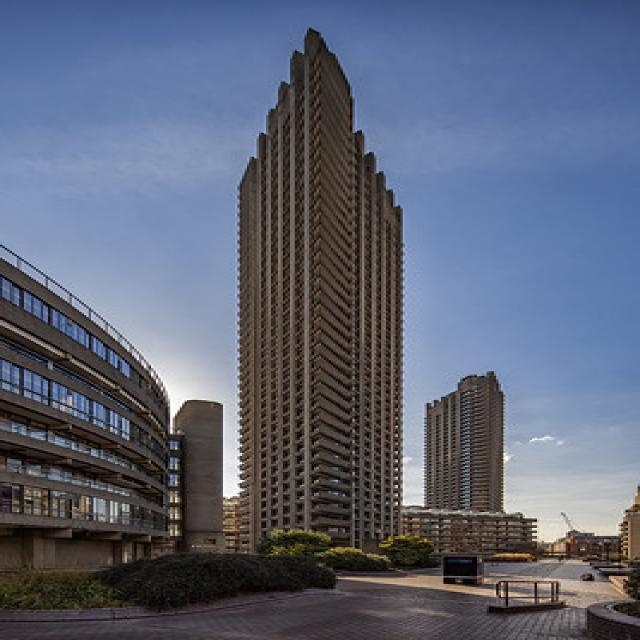building: (224, 19, 406, 563), (422, 364, 510, 564)
